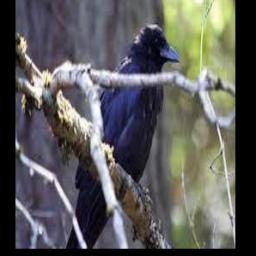Crow: (65, 23, 179, 249)
